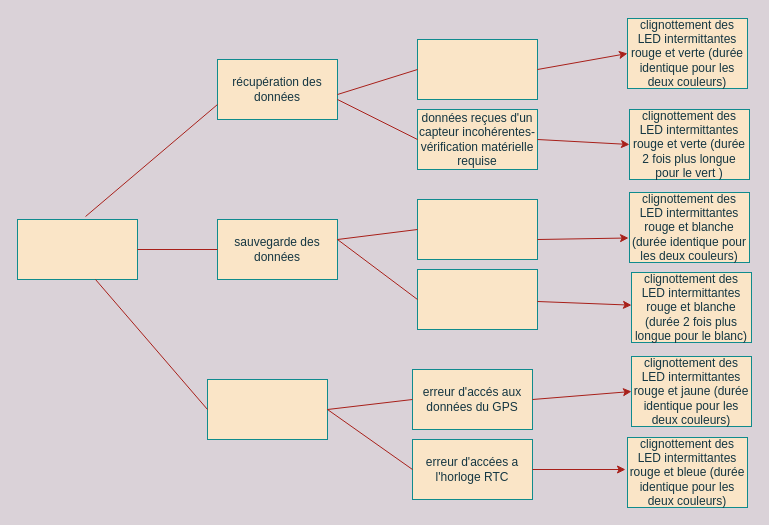
The diagram is 769 pixels wide and 525 high, and some of its shapes have lost their labels. Each missing label, with the centre of its shape:
"carte SD pleine" belongs at (477,229).
"erreur d'accés aux données d'un capteur" belongs at (477,69).
"erreur d'accés ou d'écriture sur la carte SD" belongs at (477,299).
"etallonnage des données" belongs at (267,409).
"lancement du système" belongs at (77,249).
